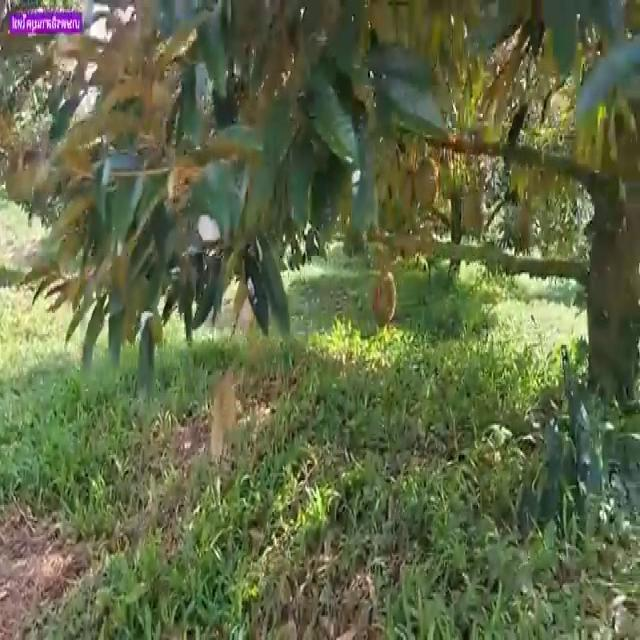durian: (370, 266, 401, 332), (413, 151, 440, 210)
